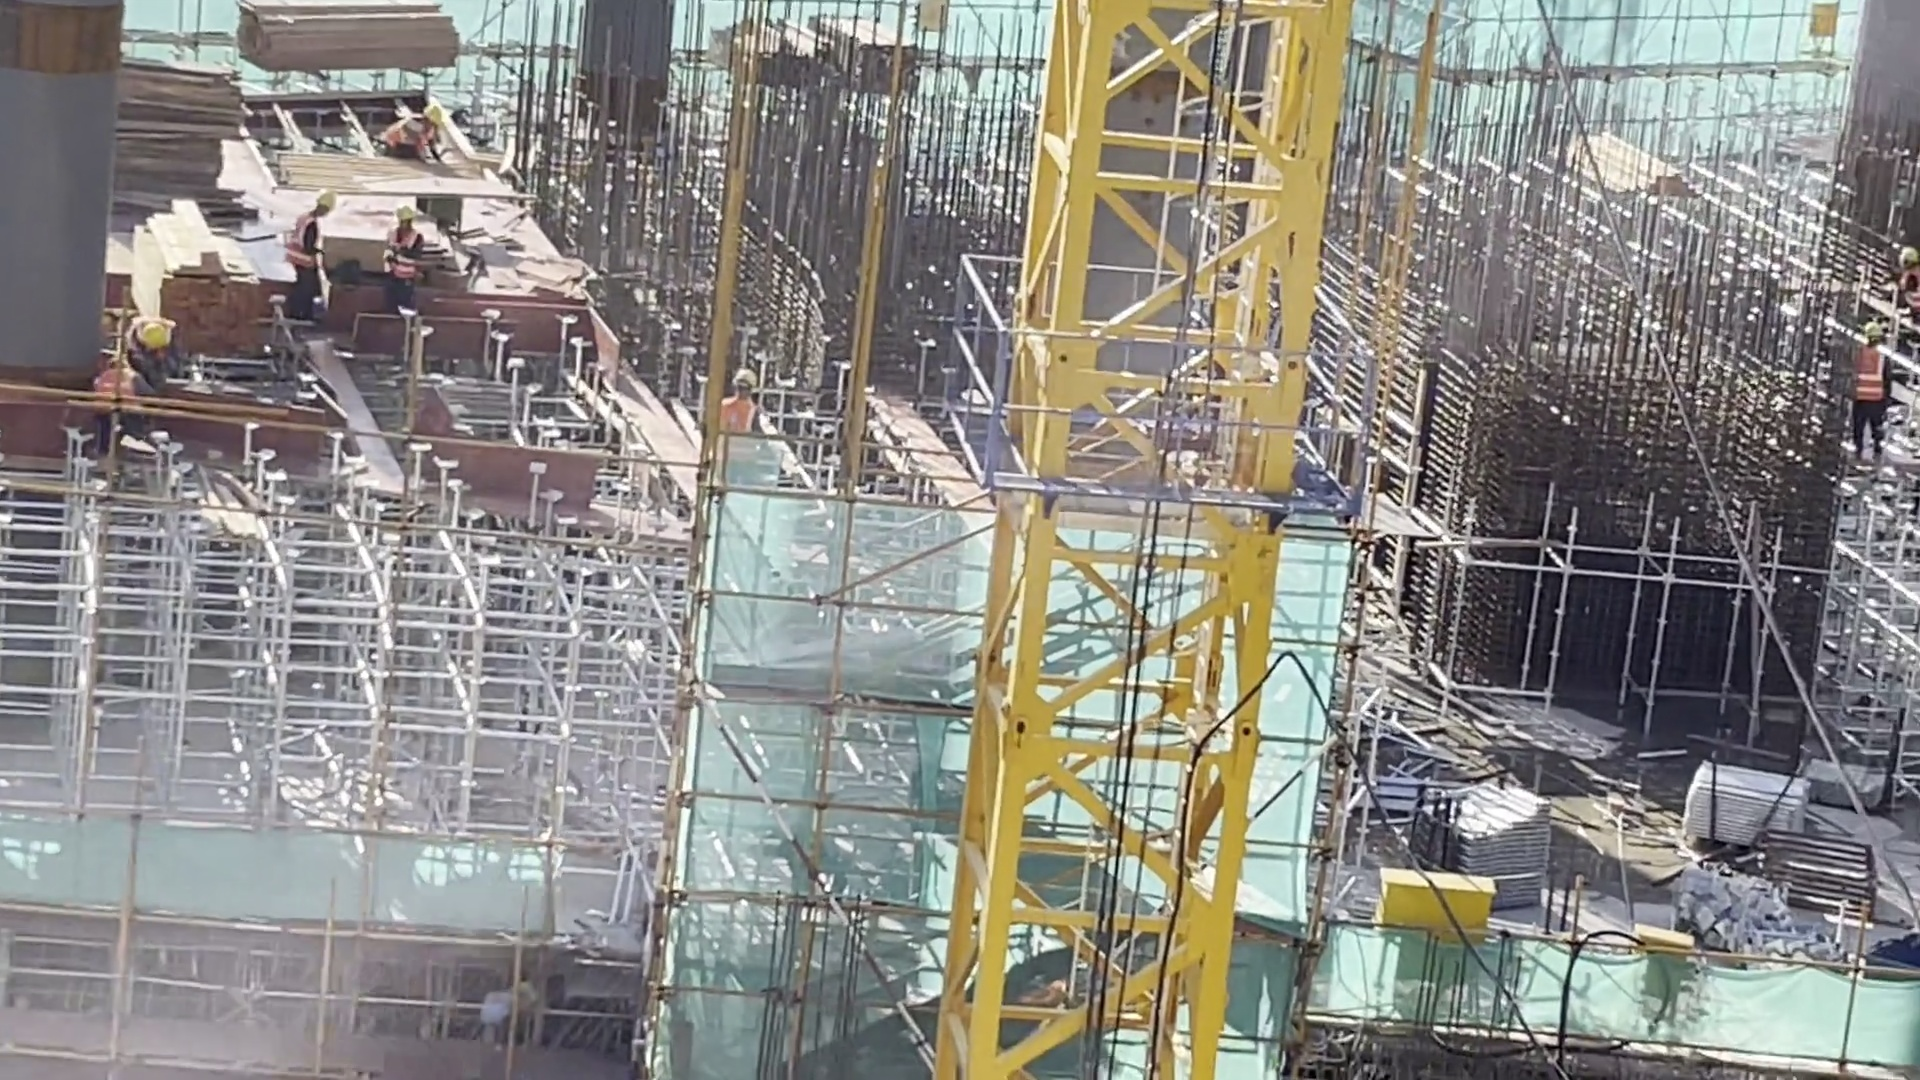ebox: (1369, 868, 1499, 945), (1631, 921, 1696, 1018), (906, 1, 954, 59), (1801, 1, 1841, 61)
helmet: (144, 325, 169, 348), (731, 368, 758, 387), (315, 184, 338, 206), (394, 205, 414, 221)
person: (281, 191, 342, 313), (1854, 318, 1891, 460), (383, 205, 423, 319), (126, 313, 181, 393), (376, 101, 440, 160), (720, 368, 765, 436), (1897, 239, 1920, 319)
scaffold: (1413, 770, 1550, 909), (1677, 759, 1812, 863)
vest: (383, 225, 424, 289), (379, 116, 431, 157), (288, 215, 320, 278), (718, 398, 756, 433)
wood: (118, 59, 254, 220), (122, 213, 268, 359), (228, 1, 465, 63), (1554, 125, 1695, 200)
